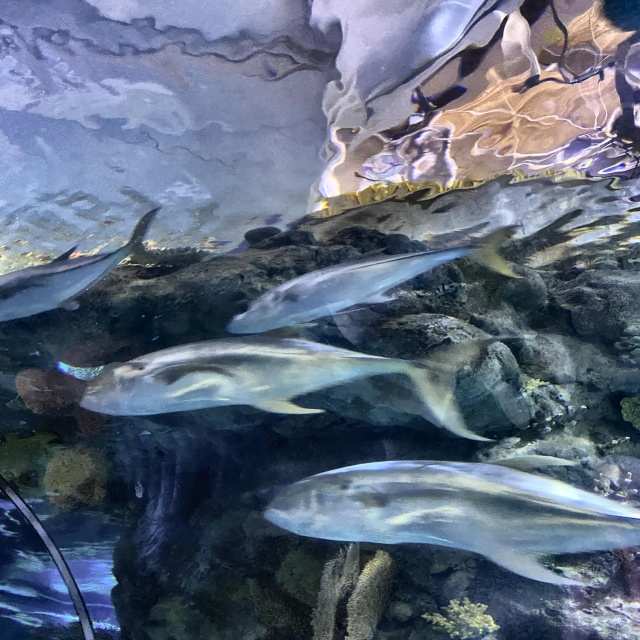fish: (273, 448, 639, 593), (84, 325, 512, 448), (226, 241, 505, 332), (0, 219, 172, 323)
